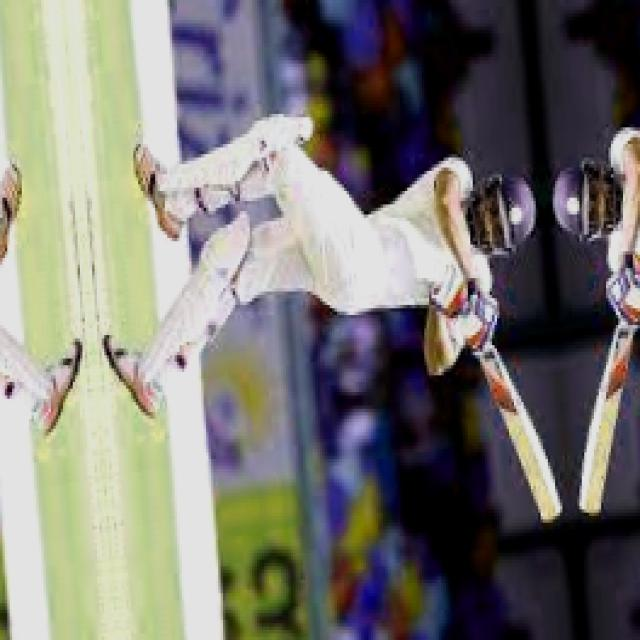toe: (537, 486, 561, 528)
